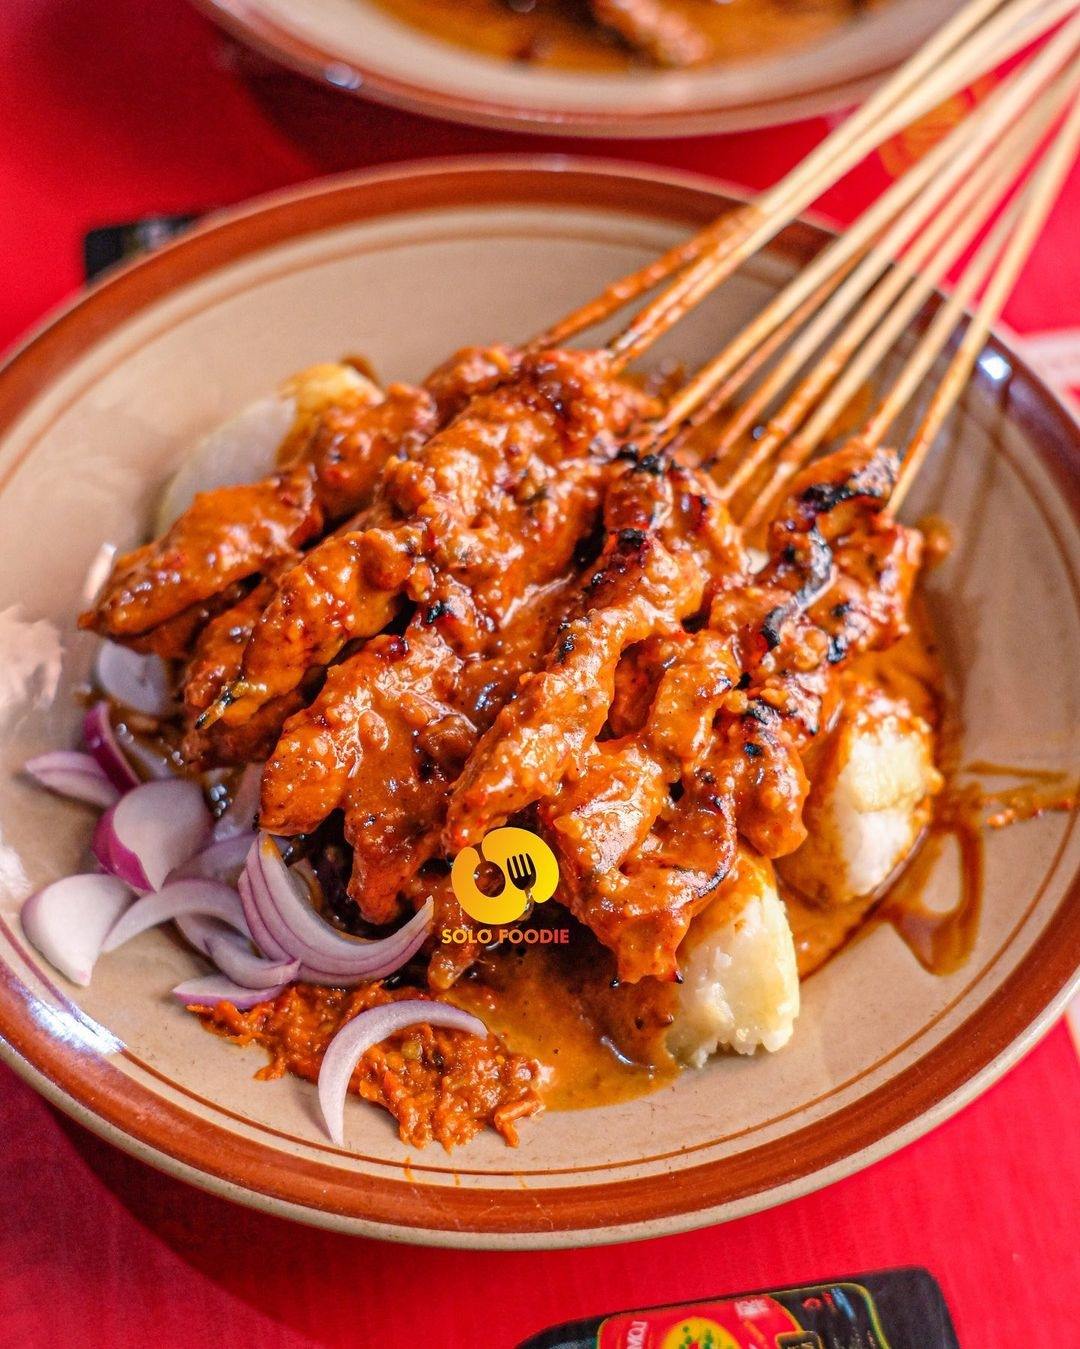sate: (71, 268, 943, 1064)
